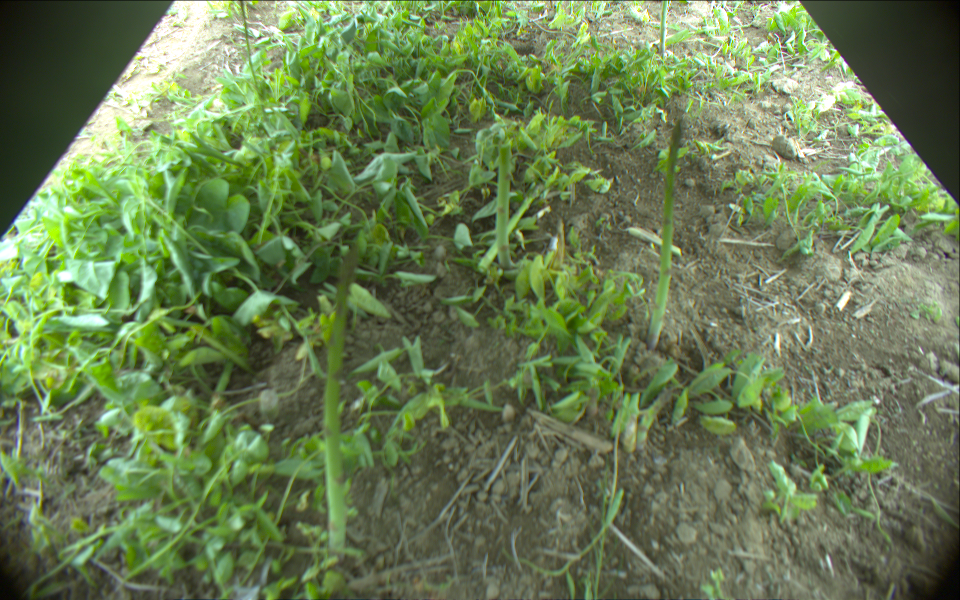aspa: (324, 243, 359, 559), (645, 117, 682, 348), (477, 185, 541, 272), (496, 142, 513, 266), (239, 1, 260, 97), (660, 1, 666, 59)
